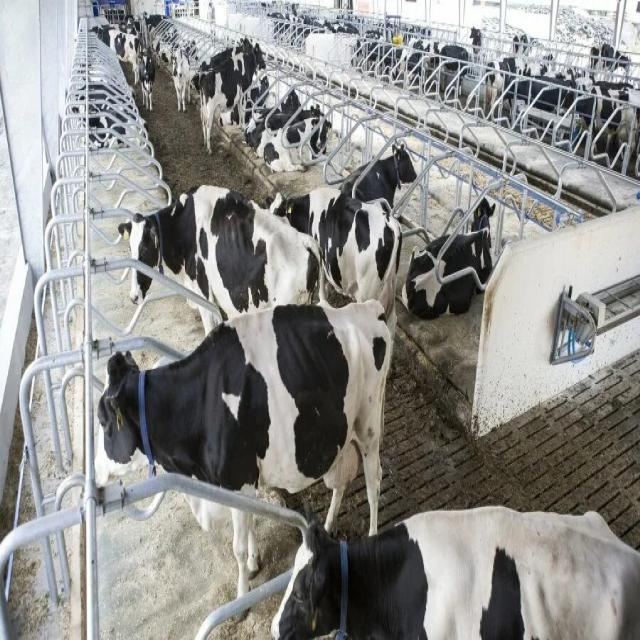cow: (93, 297, 393, 621), (270, 498, 640, 638), (116, 183, 322, 337), (266, 185, 402, 370), (400, 196, 496, 320), (336, 140, 417, 209)
